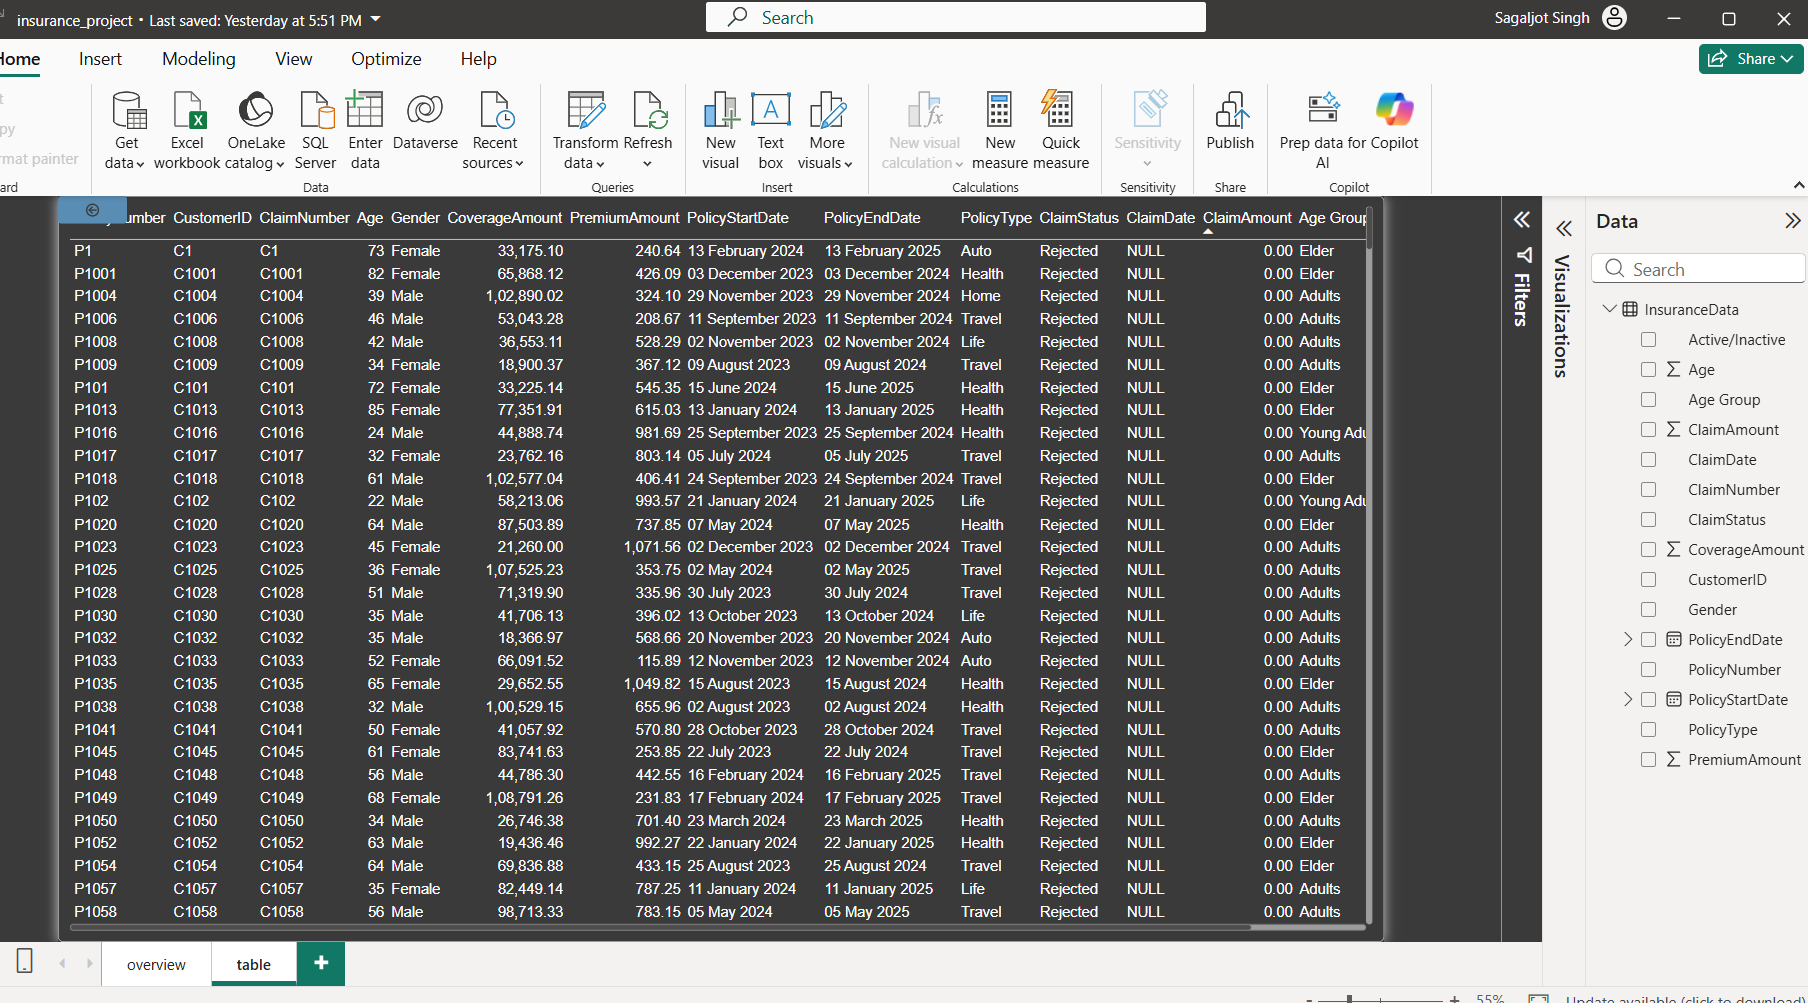

Layout of this report page (visuals, bound fields, positions):
{"tool":"powerbi","page":{"name":"table","canvas":[1920,1080],"ordinal":1},"visuals":[{"type":"tableEx","fields":{"Values":["InsuranceData.PolicyNumber","InsuranceData.CustomerID","InsuranceData.ClaimNumber","InsuranceData.Age","InsuranceData.Gender","InsuranceData.CoverageAmount","InsuranceData.PremiumAmount","InsuranceData.PolicyStartDate","InsuranceData.PolicyEndDate","InsuranceData.PolicyType","InsuranceData.ClaimStatus","InsuranceData.ClaimDate"]},"box":[0,0,1920.1,1080.4],"z":0},{"type":"actionButton","box":[0,0,100,40],"z":1}]}

Visuals, with their boxes on the page's 1920x1080 design canvas (x1, y1, x2, y2). These are canvas units, not pixel positions in the 1808x1003 screenshot, which may show the page scaled, cropped or inside an application window:
tableEx - InsuranceData.PolicyNumber x InsuranceData.CustomerID: select_region(0, 0, 1920, 1080)
actionButton: select_region(0, 0, 100, 40)
